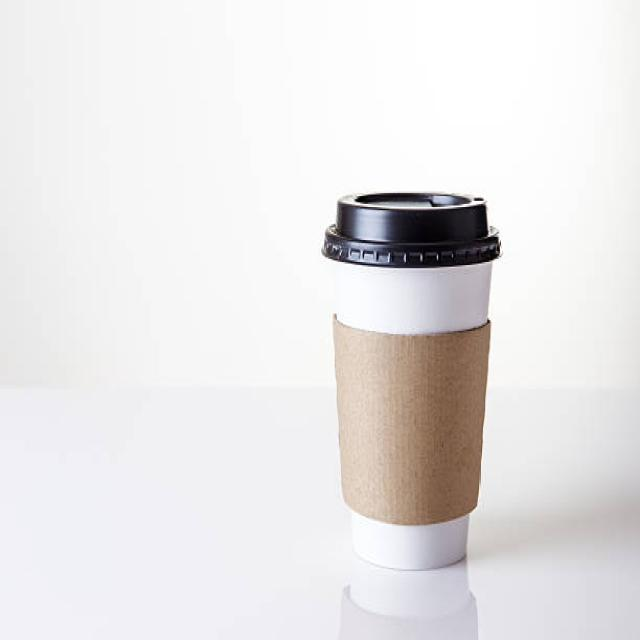cup: (319, 184, 505, 580)
